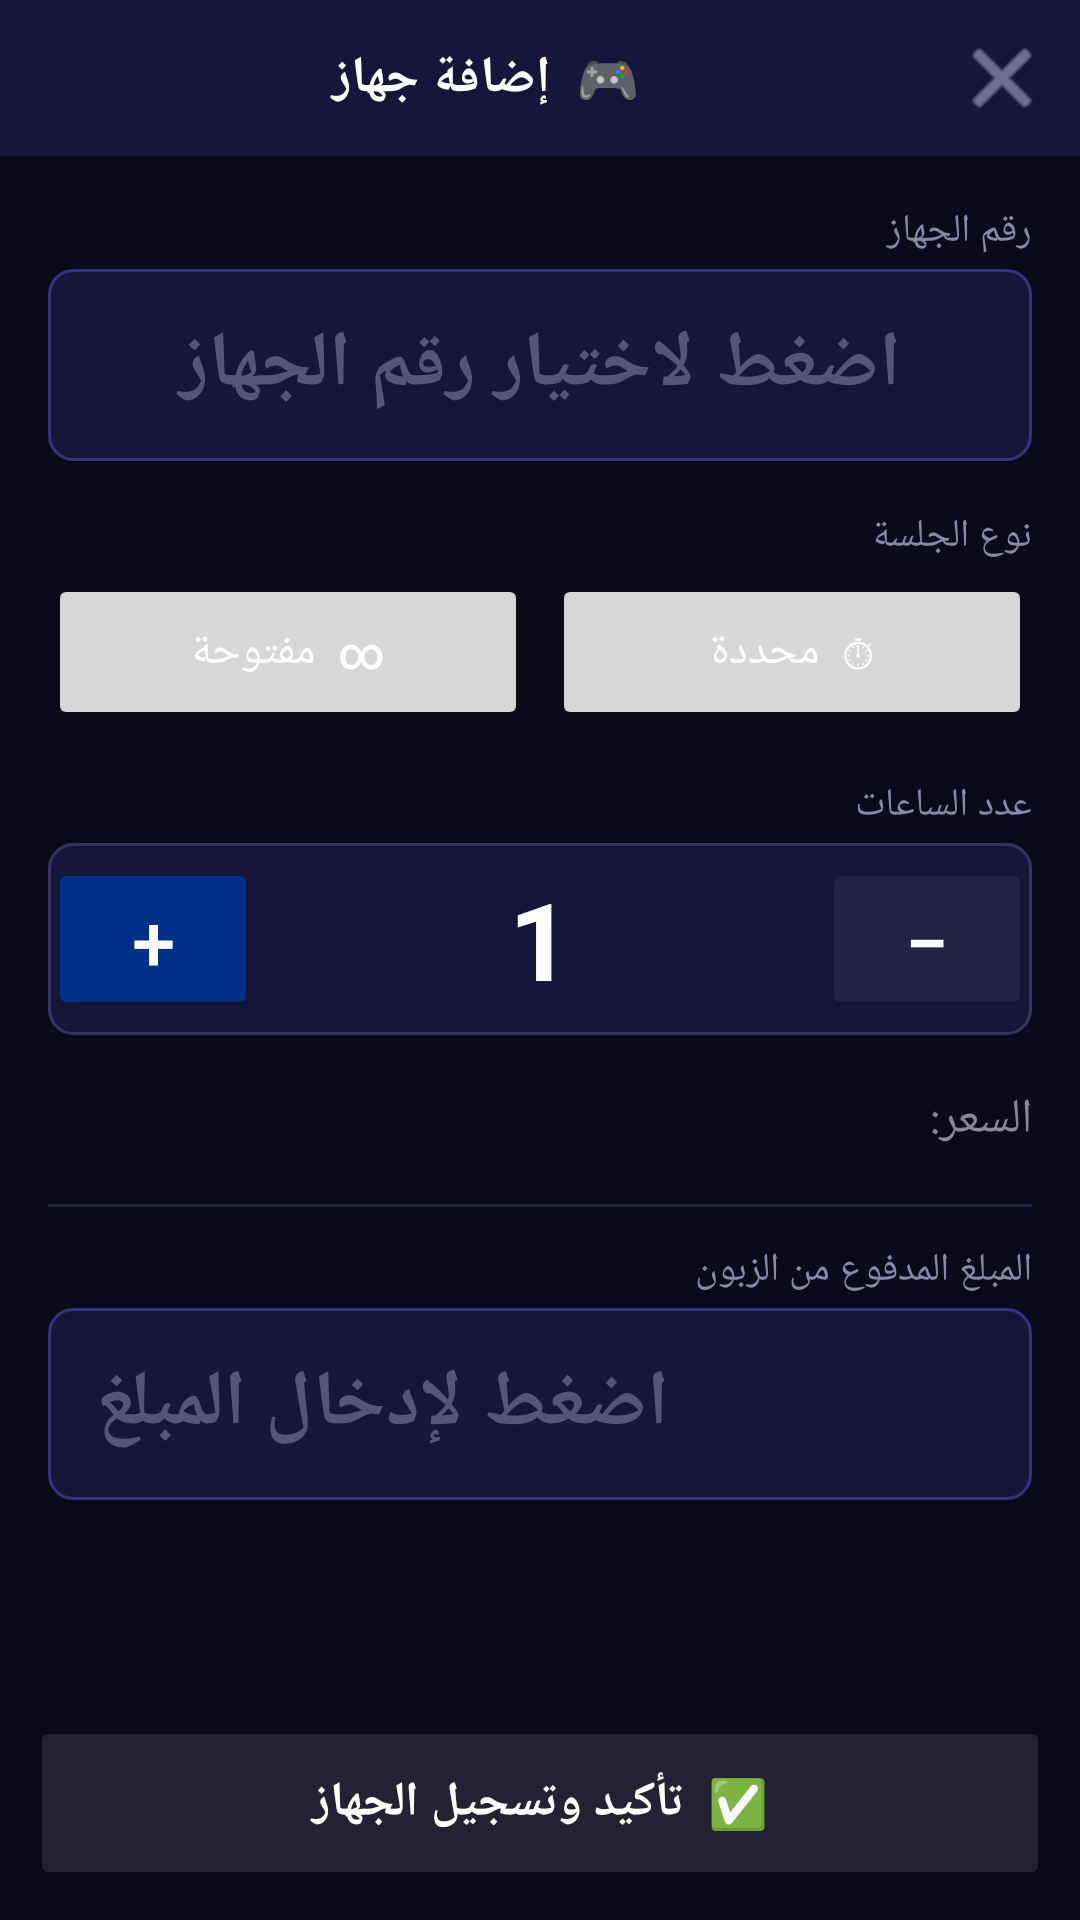

Icon bounding boxes for this 1080 × 1920 phone screenshot, format rect(x1, y1, x2, y2):
close clear cancel: rect(972, 48, 1032, 108)
